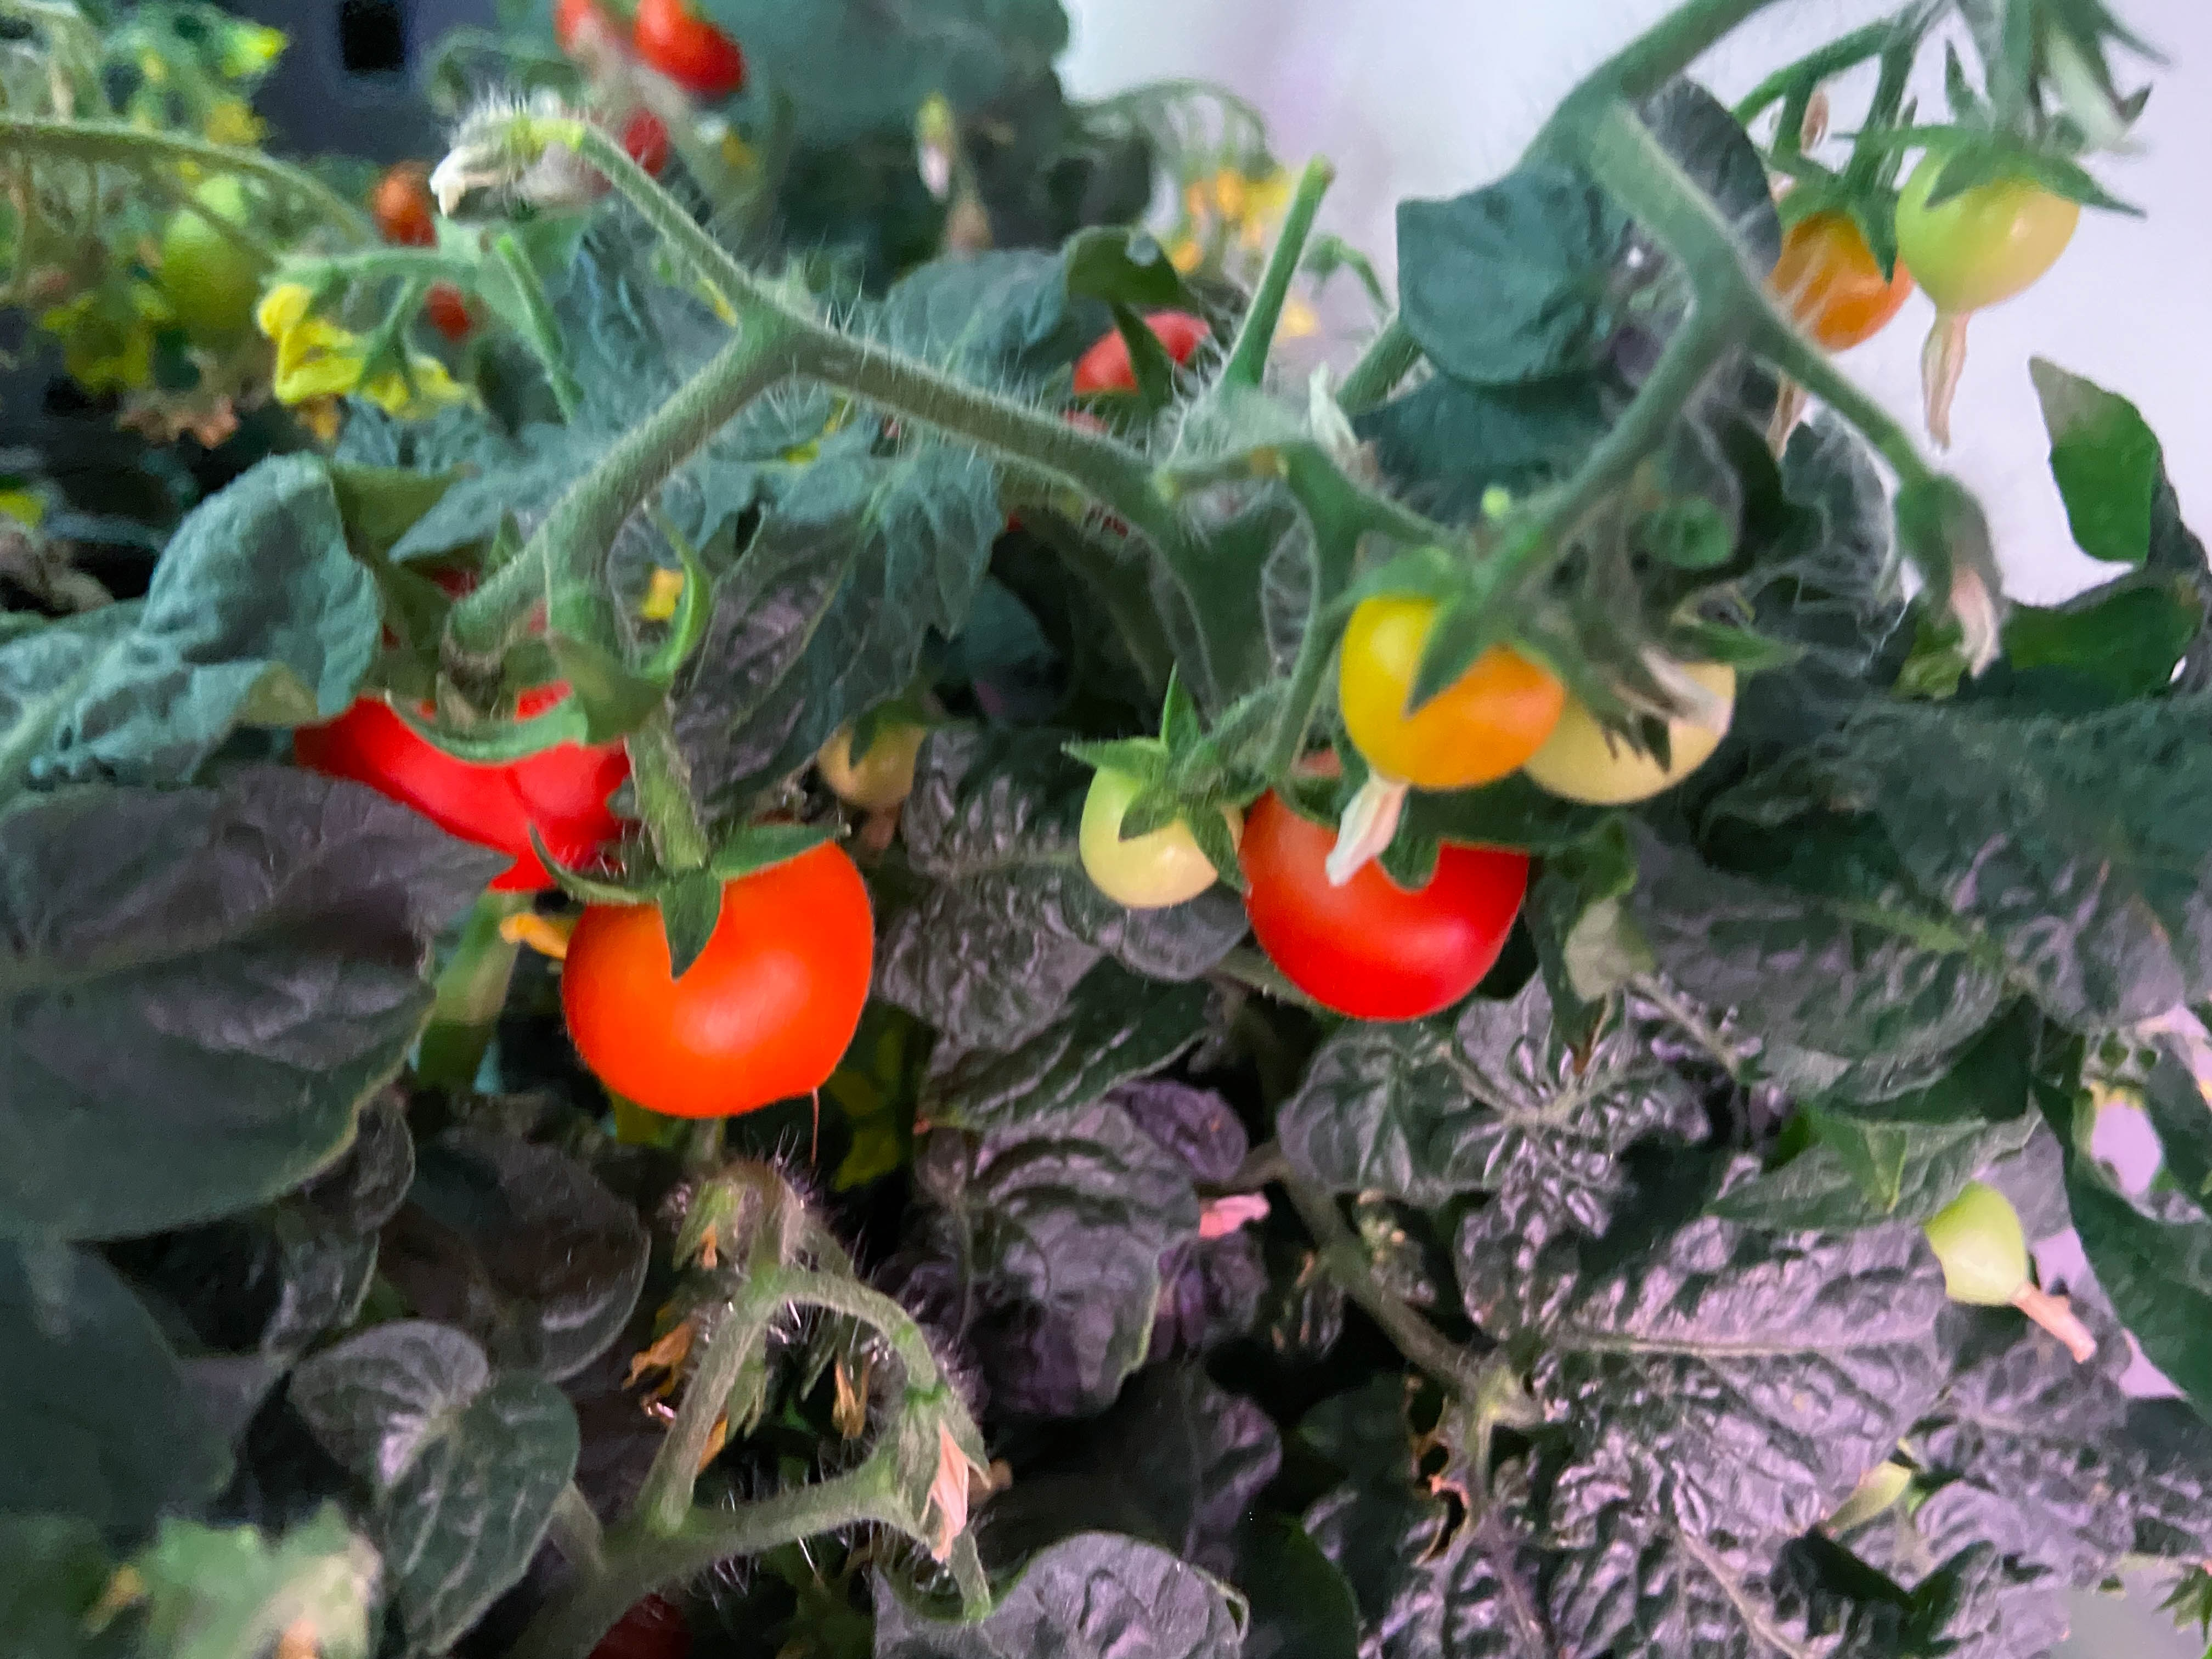green: (1512, 613, 1735, 805), (1076, 730, 1245, 910), (160, 150, 293, 359), (1919, 1176, 2031, 1309), (820, 708, 923, 810)
red: (561, 814, 878, 1121), (294, 657, 625, 904), (1237, 744, 1519, 1021), (1334, 551, 1569, 791), (1892, 134, 2088, 315), (475, 690, 667, 871), (1763, 197, 1905, 359), (1075, 301, 1216, 413), (622, 0, 763, 99), (566, 85, 678, 195), (378, 160, 453, 251)
